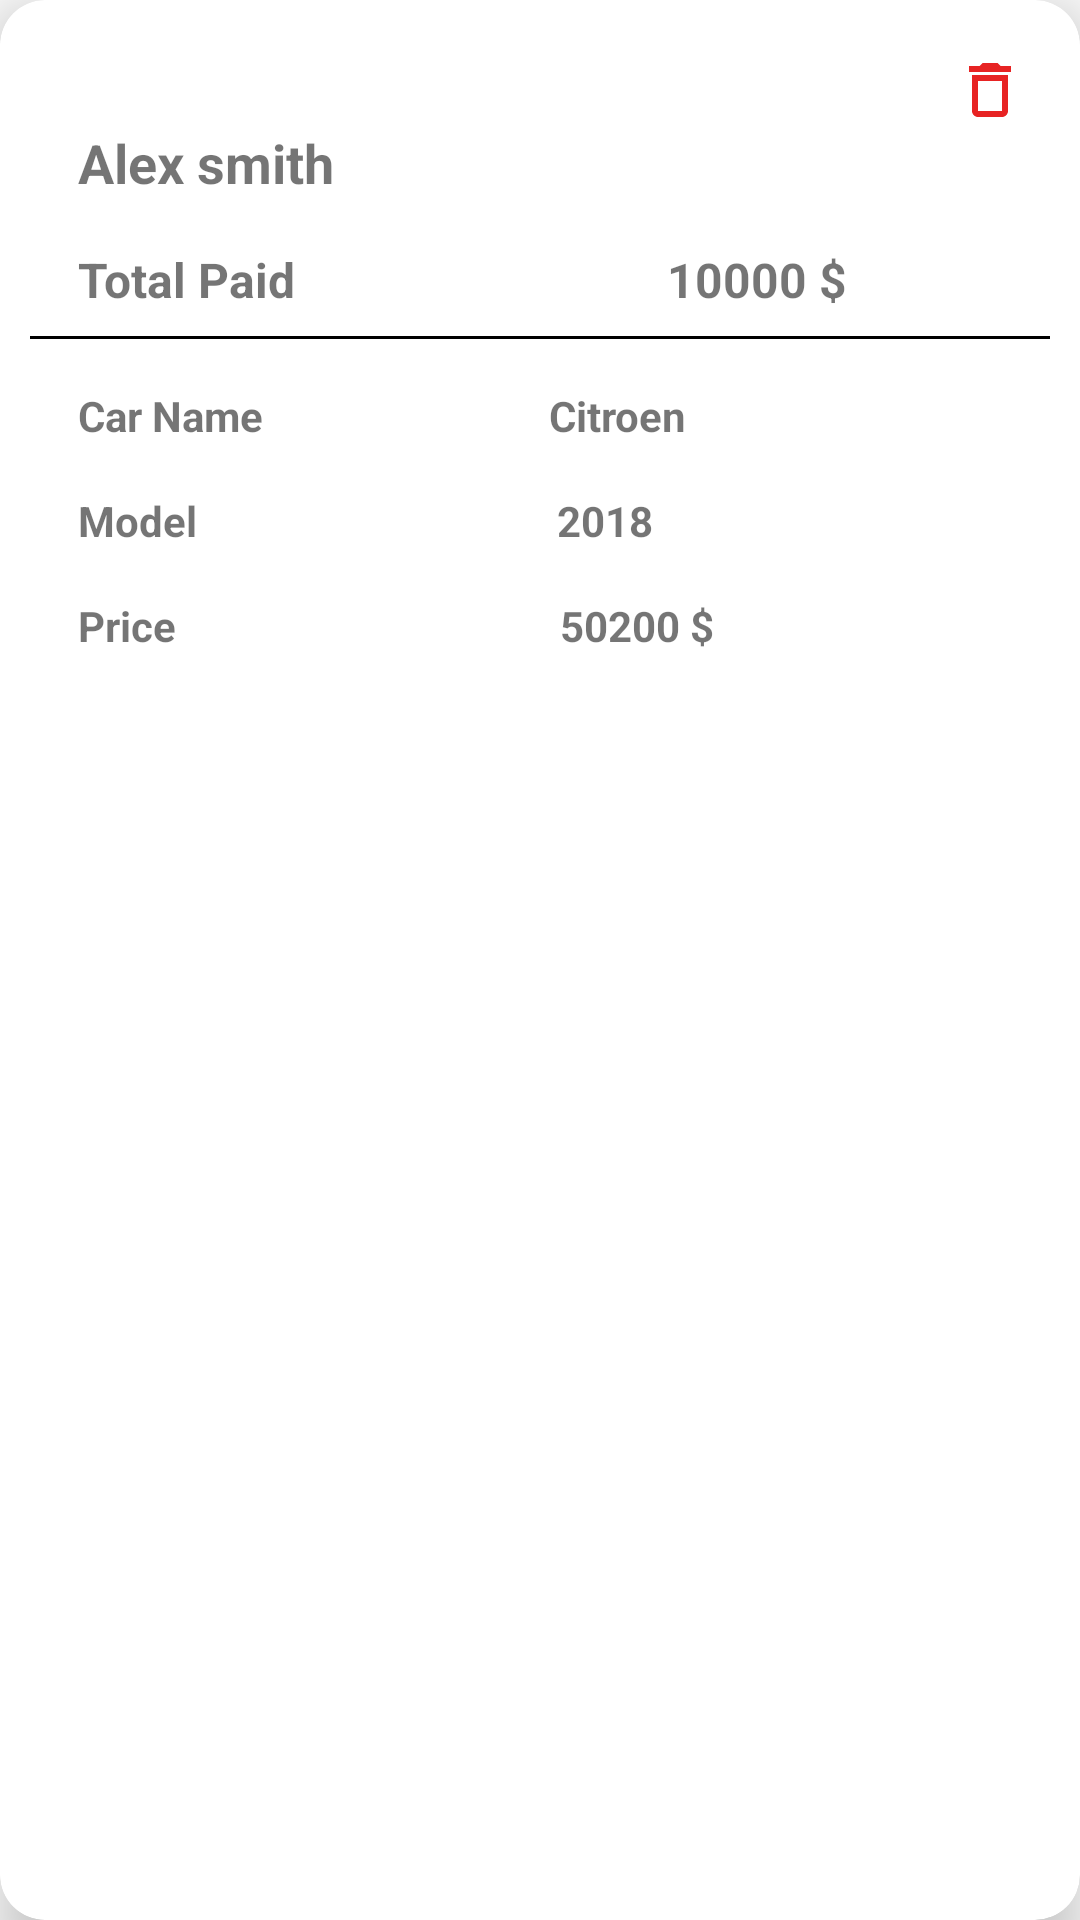

Icon click points for this 1080 × 1920 phone screenshot, format (x=x, y=y):
delete: (x=990, y=90)
